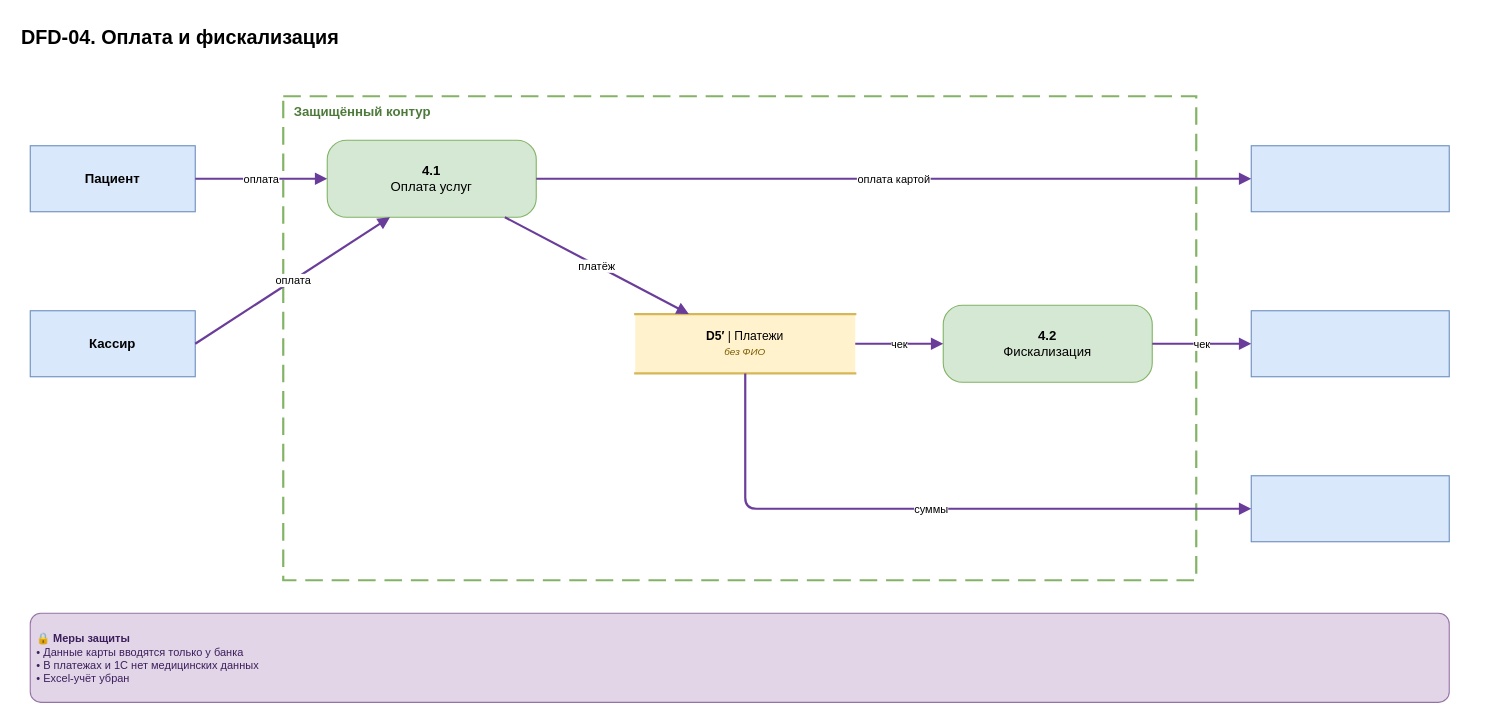
This 1489x722 diagram has some shape labels left out. Here are the shapes that lost their labels. From the top down, the centre of each, then its label:
At point (1349, 178): "Банк-эквайер / ПСП".
At point (1349, 343): "ОФД → ФНС".
At point (1349, 508): "1С:Бухгалтерия".
